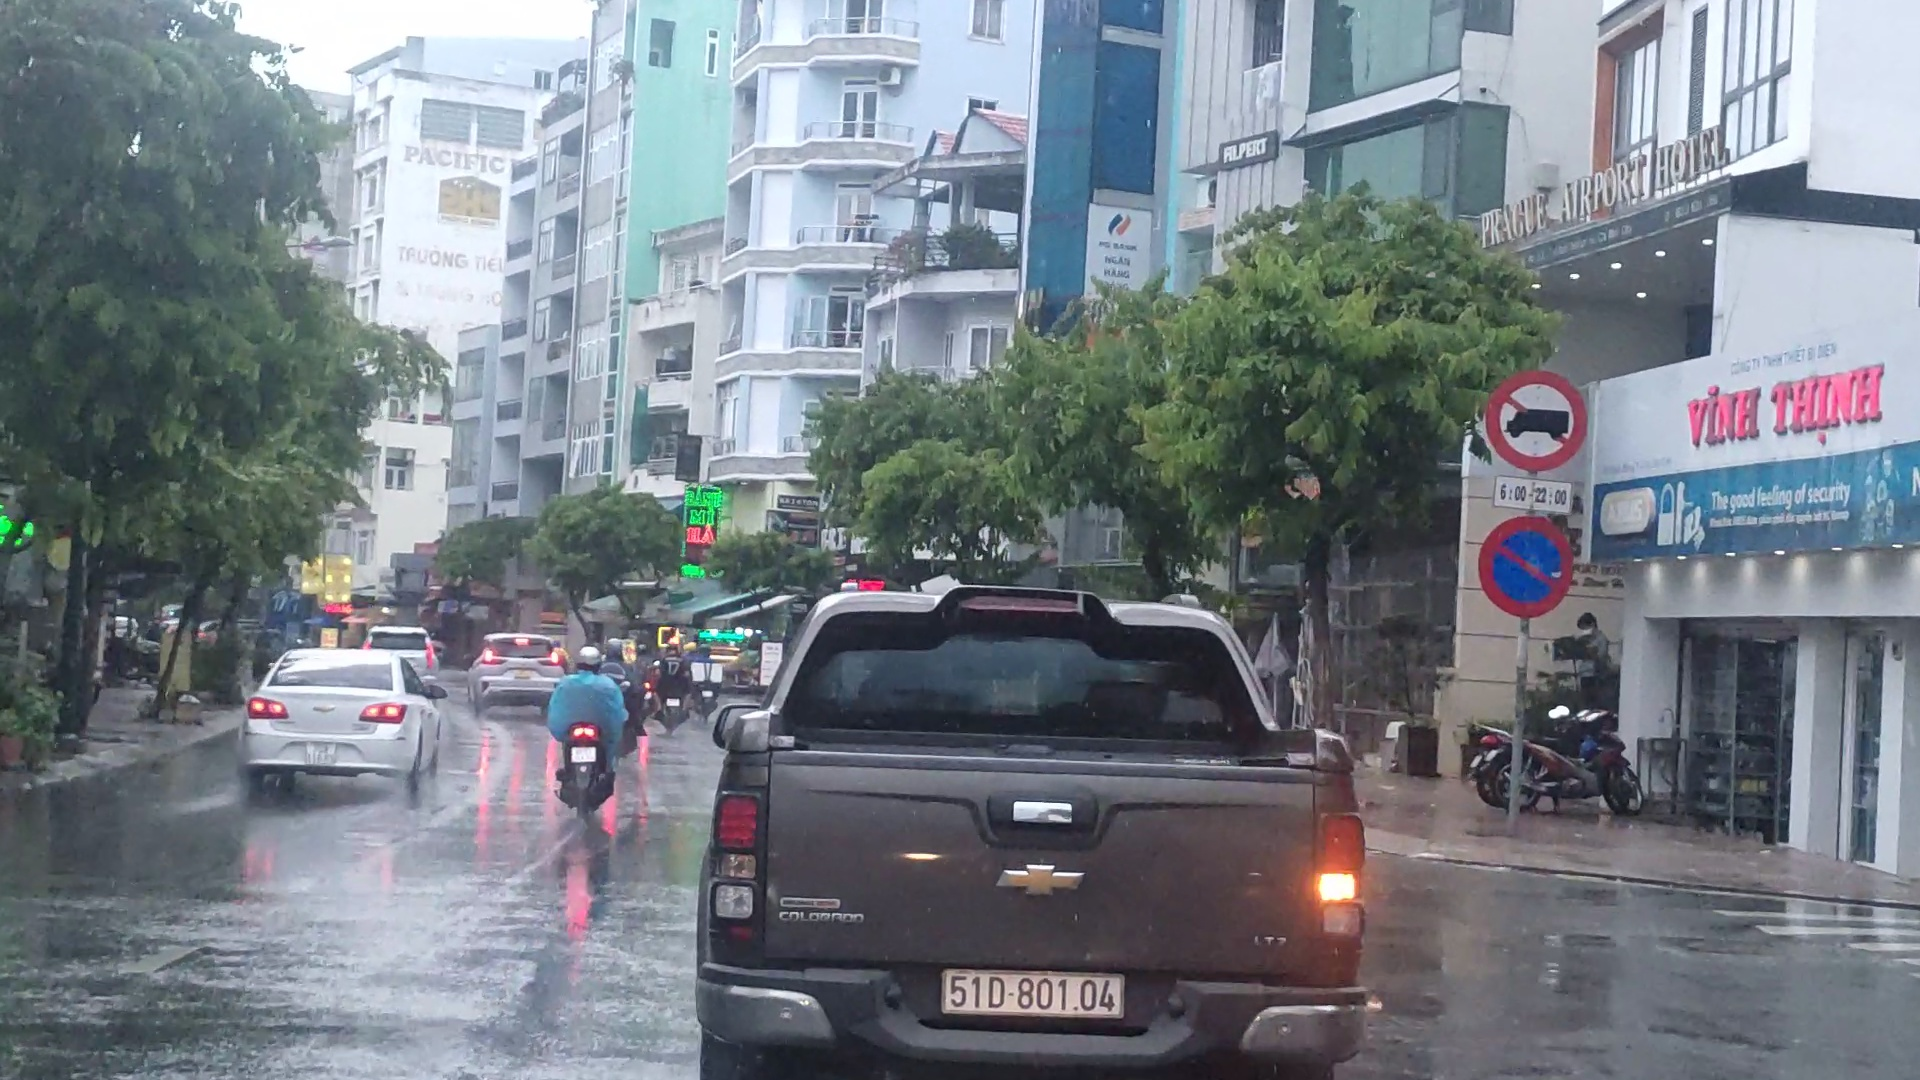P.106a*Xe tải: (1488, 367, 1590, 473)
P.131a: (1478, 512, 1576, 618)
